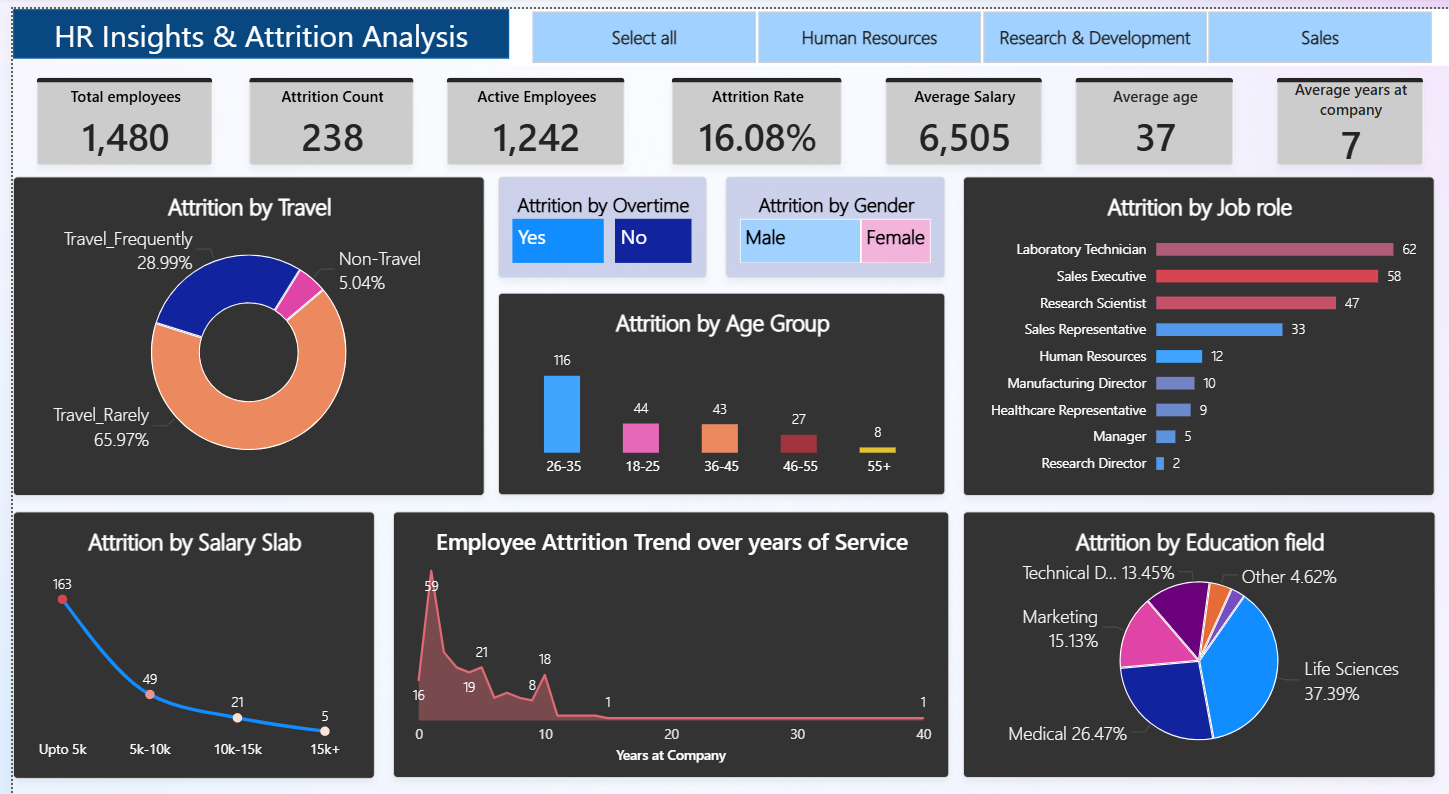

What the dashboard file says about the page in this screenshot:
{"tool":"powerbi","page":{"name":"Executive Summary Dashboard","canvas":[1280,720],"ordinal":0},"visuals":[{"type":"cardVisual","fields":{"Data":["Measures (2).Total employees"]},"box":[20.8,61.1,156.5,78.3],"z":0},{"type":"shape","box":[0,0,441.4,44],"z":1000},{"type":"cardVisual","fields":{"Data":["Measures (2).Attrition Count"]},"box":[210.3,61.1,146.7,78.3],"z":2000},{"type":"cardVisual","fields":{"Data":["Measures (2).Active Employees"]},"box":[385.2,61.1,159,78.3],"z":3000},{"type":"cardVisual","fields":{"Data":["Measures (2).Attrition Rate"]},"box":[585.7,61.1,151.6,78.3],"z":4000},{"type":"cardVisual","fields":{"Data":["Measures (2).Average Salary"]},"box":[775.3,61.1,139.4,78.3],"z":5000},{"type":"cardVisual","fields":{"Data":["Measures (2).Average age"]},"box":[944,61.1,140.6,78.3],"z":6000},{"type":"cardVisual","fields":{"Data":["Measures (2).Average years at company"]},"box":[1123.8,61.1,130.8,78.3],"z":7000},{"type":"treemap","title":"Attrition by Gender","fields":{"Group":["HR_Analytics.Gender"],"Values":["Measures (2).Attrition Count"]},"box":[633.3,148.9,195.6,90],"z":8000},{"type":"clusteredColumnChart","title":"Attrition by Age Group","fields":{"Category":["HR_Analytics.AgeGroup"],"Y":["Measures (2).Attrition Count"]},"box":[431.1,252.2,397.8,180],"z":9000},{"type":"treemap","title":"Attrition by Overtime","fields":{"Group":["HR_Analytics.OverTime"],"Values":["Measures (2).Attrition Count"]},"box":[431.1,148.9,185.6,90],"z":10000},{"type":"donutChart","title":"Attrition by Travel","fields":{"Category":["HR_Analytics.BusinessTravel"],"Y":["Measures (2).Attrition Count"]},"box":[0,149.2,419.4,283.7],"z":11000},{"type":"pieChart","title":"Attrition by Education field","fields":{"Category":["HR_Analytics.EducationField"],"Y":["Measures (2).Attrition Count"]},"box":[844.4,446.7,420,236.7],"z":12000},{"type":"slicer","fields":{"Values":["HR_Analytics.Department"]},"box":[441.4,0,838.9,50.1],"z":13000},{"type":"clusteredBarChart","title":"Attrition by Job  role","fields":{"Category":["HR_Analytics.JobRole"],"Y":["Measures (2).Attrition Count"]},"box":[845,149.2,419.4,283.7],"z":14000},{"type":"lineChart","title":"Attrition by Salary Slab","fields":{"Category":["HR_Analytics.SalarySlab"],"Y":["Measures (2).Attrition Count"]},"box":[0,446.3,321.6,237.2],"z":14001},{"type":"areaChart","title":"Employee Attrition Trend over years of Service","fields":{"Category":["HR_Analytics.YearsAtCompany"],"Y":["Measures (2).Attrition Count"]},"box":[337.8,446.7,494.4,236.7],"z":14002}]}

Visuals, with their boxes in screenshot pixels (x1, y1, x2, y2), scaled from the page's 1280x720 canvas onto the 1449x794 screenshot:
cardVisual - Measures (2).Total employees: [left=24, top=67, right=201, bottom=154]
shape: [left=0, top=0, right=500, bottom=49]
cardVisual - Measures (2).Attrition Count: [left=238, top=67, right=404, bottom=154]
cardVisual - Measures (2).Active Employees: [left=436, top=67, right=616, bottom=154]
cardVisual - Measures (2).Attrition Rate: [left=663, top=67, right=835, bottom=154]
cardVisual - Measures (2).Average Salary: [left=878, top=67, right=1035, bottom=154]
cardVisual - Measures (2).Average age: [left=1069, top=67, right=1228, bottom=154]
cardVisual - Measures (2).Average years at company: [left=1272, top=67, right=1420, bottom=154]
"Attrition by Gender" treemap: [left=717, top=164, right=938, bottom=263]
"Attrition by Age Group" clusteredColumnChart: [left=488, top=278, right=938, bottom=477]
"Attrition by Overtime" treemap: [left=488, top=164, right=698, bottom=263]
"Attrition by Travel" donutChart: [left=0, top=165, right=475, bottom=477]
"Attrition by Education field" pieChart: [left=956, top=493, right=1431, bottom=754]
slicer - HR_Analytics.Department: [left=500, top=0, right=1448, bottom=55]
"Attrition by Job  role" clusteredBarChart: [left=957, top=165, right=1431, bottom=477]
"Attrition by Salary Slab" lineChart: [left=0, top=492, right=364, bottom=754]
"Employee Attrition Trend over years of Service" areaChart: [left=382, top=493, right=942, bottom=754]
